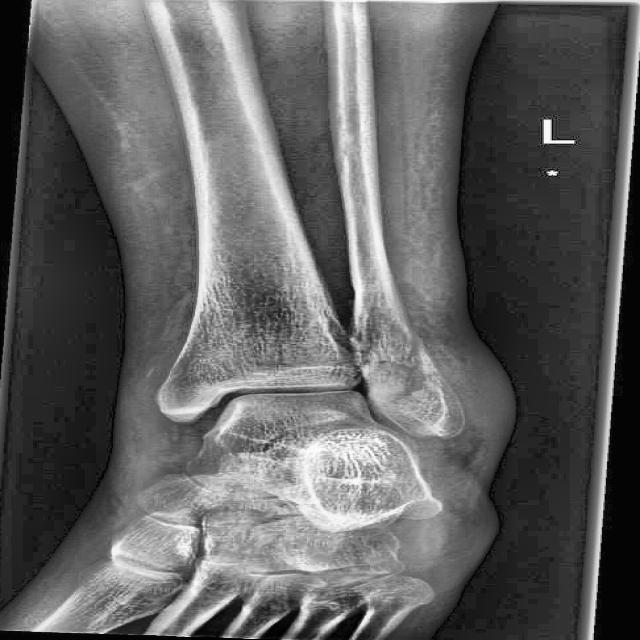fracture: (398, 334, 424, 366)
